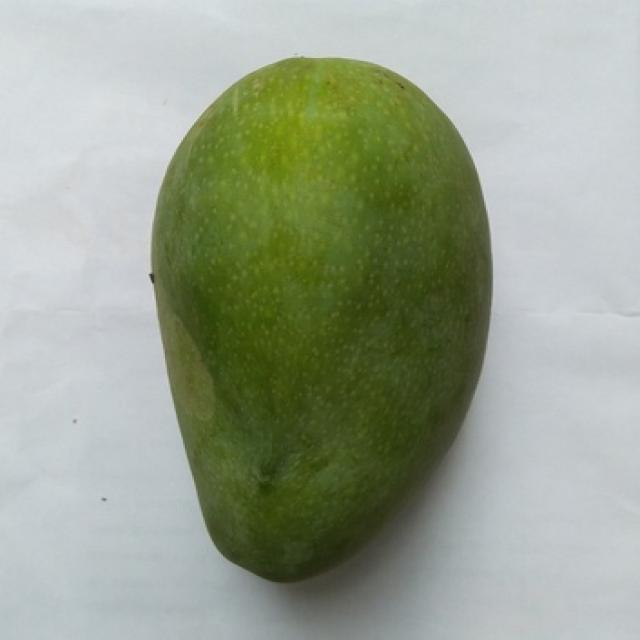Mango: (152, 58, 491, 580)
